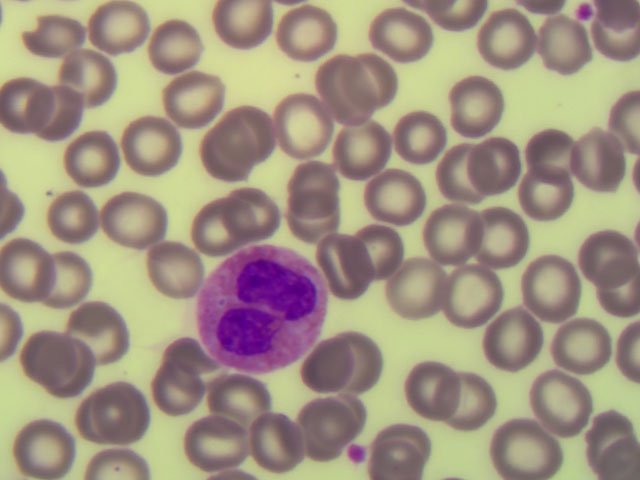Platelets: (570, 3, 596, 28), (342, 441, 366, 461)
RBC: (91, 1, 147, 54), (61, 52, 117, 105), (34, 85, 90, 138), (2, 72, 58, 125), (26, 6, 82, 59), (149, 17, 205, 70), (168, 73, 224, 126), (193, 130, 249, 183), (223, 109, 279, 162), (124, 115, 180, 168), (69, 131, 125, 184), (107, 195, 163, 248), (47, 191, 103, 244), (45, 246, 101, 299), (6, 240, 62, 293), (71, 302, 127, 355), (56, 347, 112, 400), (24, 325, 80, 378), (93, 378, 149, 431), (60, 388, 116, 441), (16, 417, 72, 470), (193, 417, 249, 470), (211, 371, 267, 424), (258, 417, 314, 470), (288, 397, 344, 450), (302, 343, 358, 396), (338, 332, 394, 385), (143, 363, 199, 416), (157, 328, 213, 381), (151, 237, 207, 290), (181, 206, 237, 259), (224, 186, 280, 239), (294, 197, 350, 250), (290, 157, 346, 210), (326, 122, 382, 175), (281, 93, 337, 146), (322, 60, 378, 113), (352, 45, 408, 98), (284, 4, 340, 57), (372, 9, 428, 62), (475, 8, 531, 61), (539, 16, 595, 69), (447, 73, 503, 126), (386, 111, 442, 164), (374, 172, 430, 225), (354, 226, 410, 279), (318, 237, 374, 290), (395, 271, 451, 324), (418, 208, 474, 261), (468, 208, 524, 261), (435, 145, 491, 198), (476, 131, 532, 184), (517, 166, 573, 219), (525, 133, 581, 186), (577, 136, 633, 189), (583, 228, 639, 281), (522, 255, 578, 308), (448, 267, 504, 320), (492, 313, 548, 366), (557, 320, 613, 373), (541, 372, 597, 425), (498, 421, 554, 474), (443, 369, 499, 422), (401, 362, 457, 415), (374, 424, 430, 477), (215, 1, 271, 53)
WBC: (194, 238, 331, 381)
